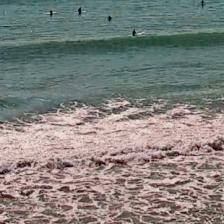surfer: (131, 29, 137, 37), (107, 15, 113, 22), (77, 7, 83, 14), (200, 0, 207, 5), (49, 10, 54, 15)
